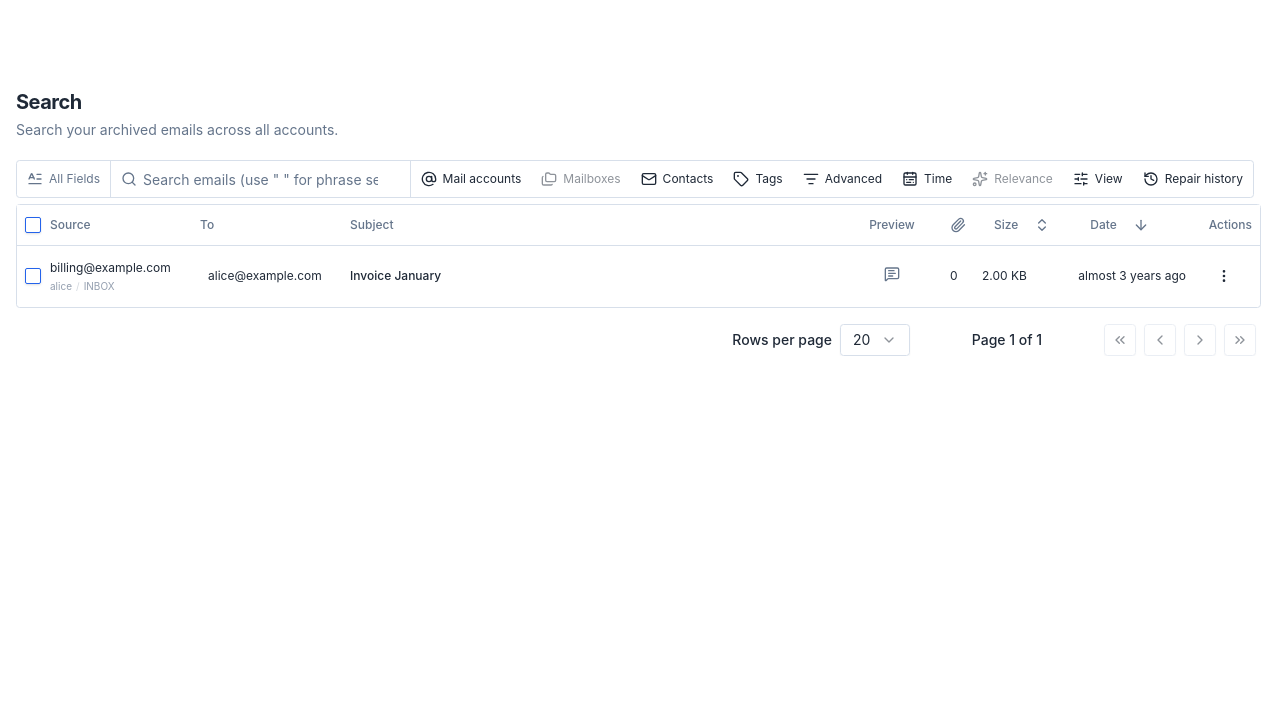
Scenario: search repair › repairs the message of a row
This screenshot has width=1280, height=720.
Click the 2nd button named "Open menu" at (1224, 276), box x1=1208 y1=260 x2=1240 y2=292
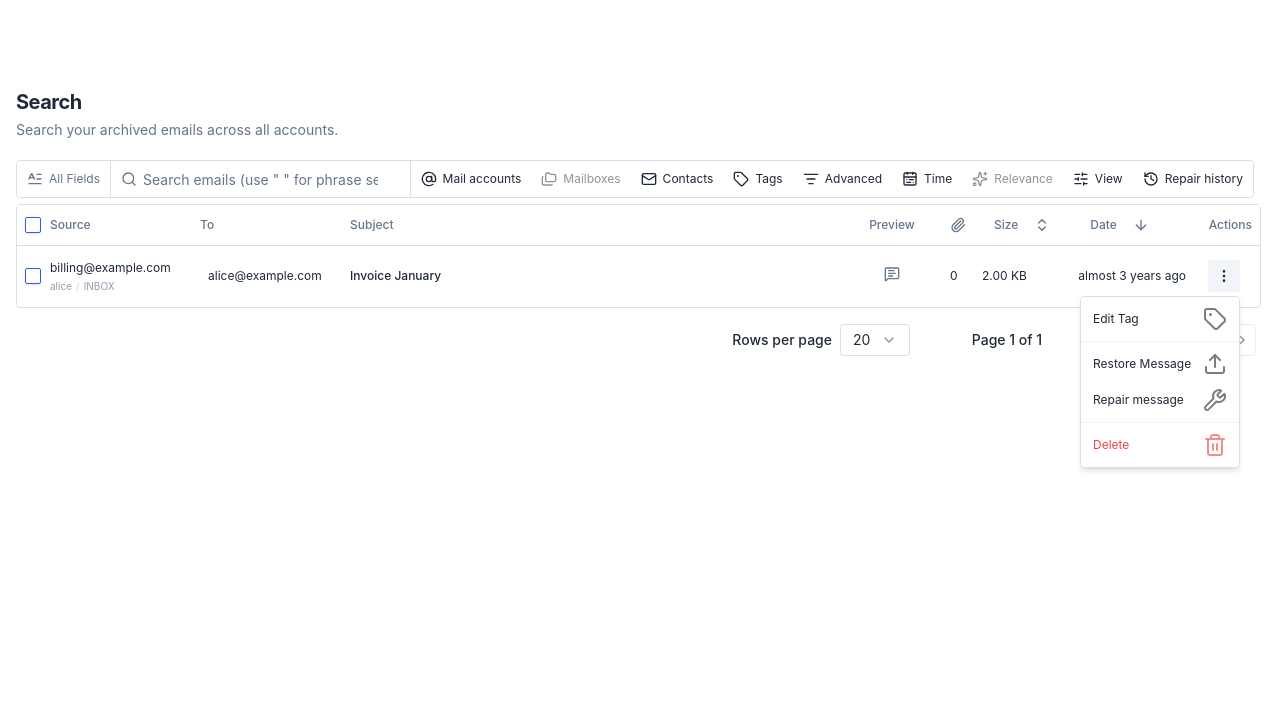
Click the menu item "Repair message" at (1160, 400), box x1=1085 y1=382 x2=1235 y2=418
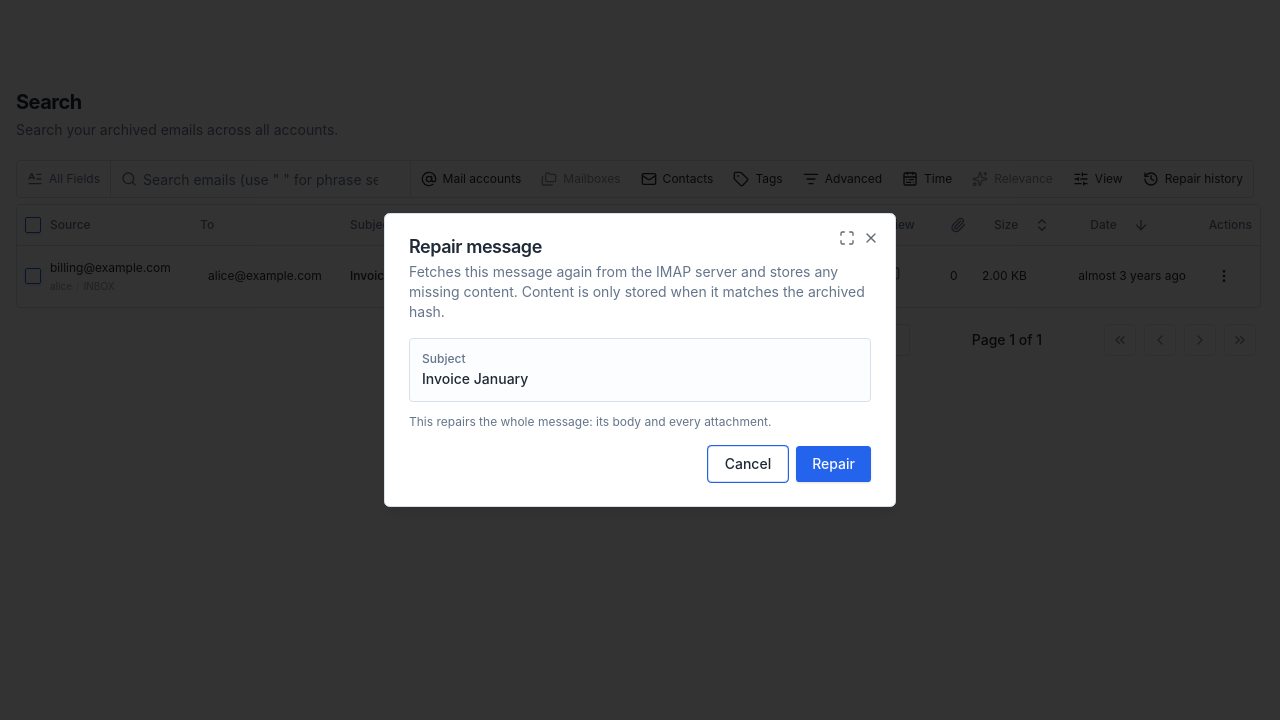
Expected: the text "Invoice January" is shown, x1=422 y1=370 x2=528 y2=387
Click the button "Repair" at (834, 464), box x1=796 y1=446 x2=871 y2=482
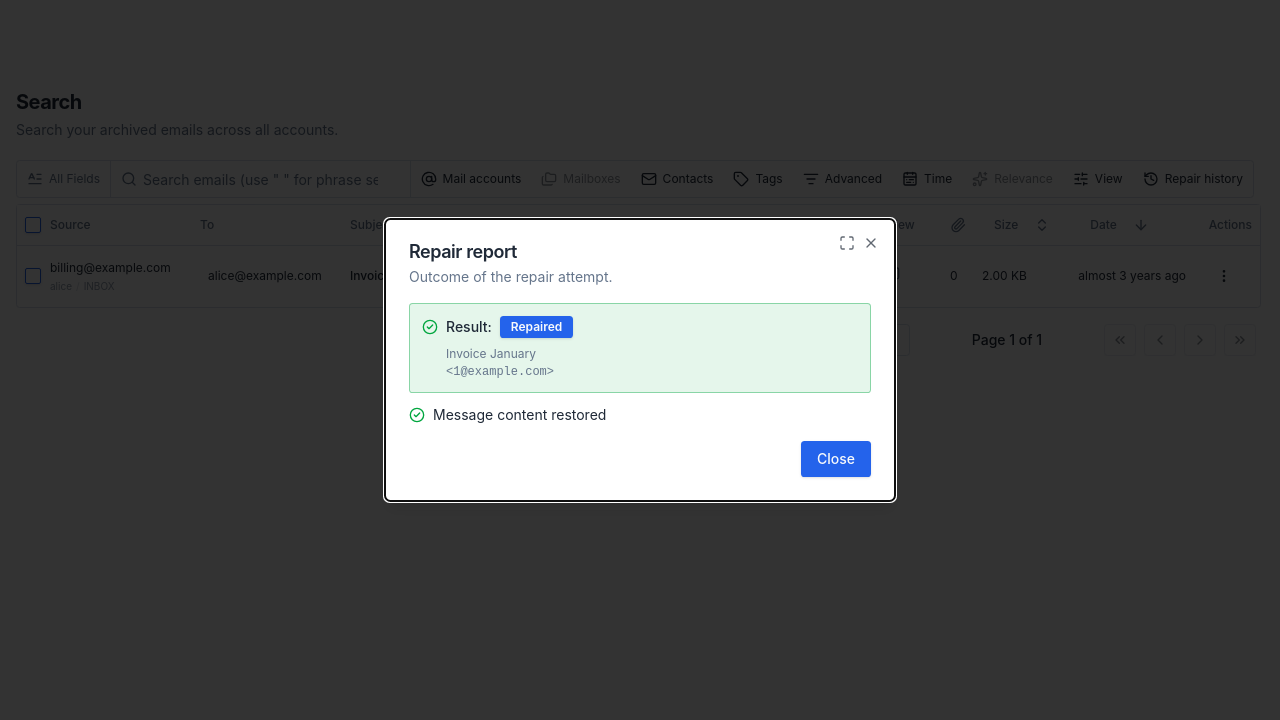
Expected: the text "Message content restored" is shown, x1=433 y1=405 x2=606 y2=425
Click the button named "Close" at (871, 243), box x1=863 y1=235 x2=879 y2=251
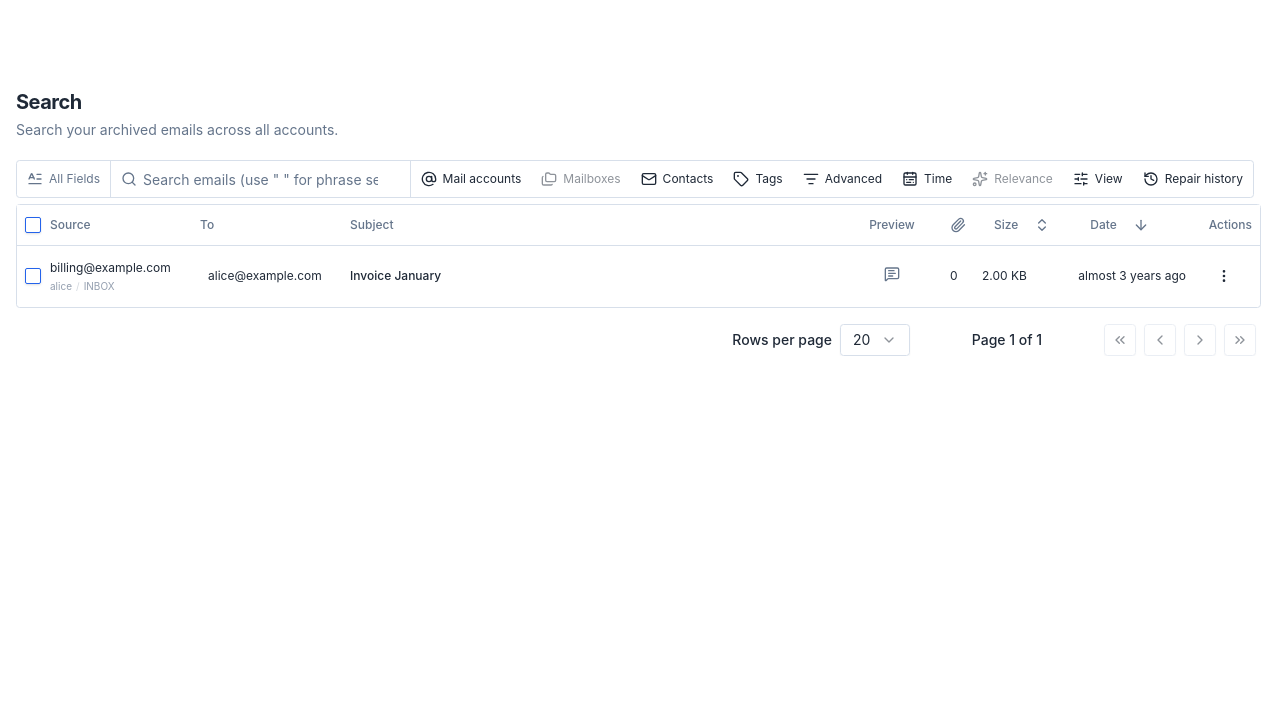
Expected: the dialog is gone
